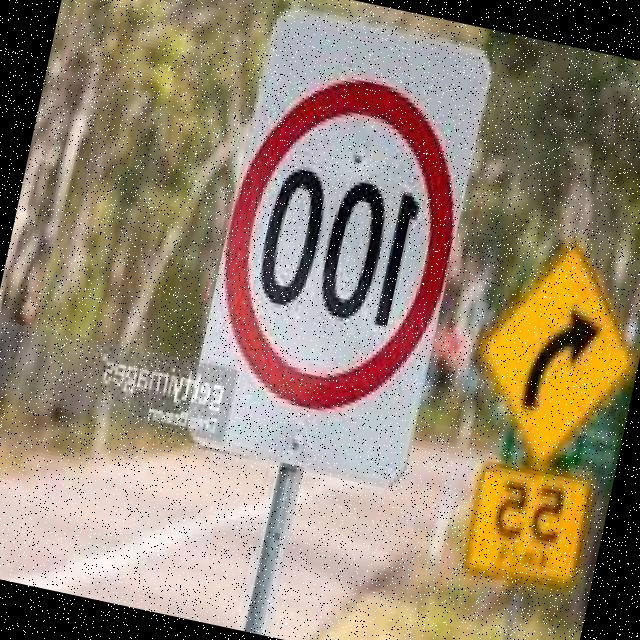speed_limit_100: (196, 63, 476, 426)
